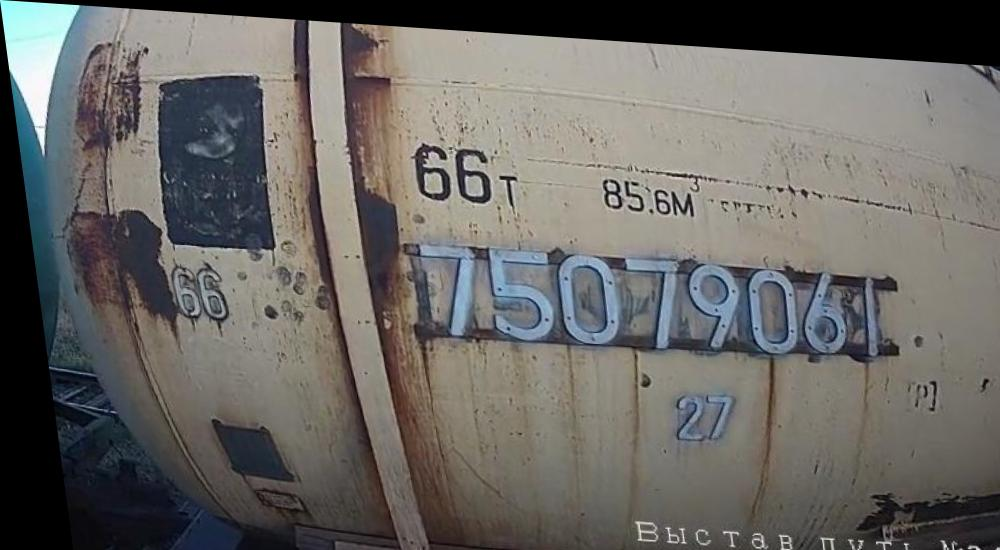Wagon-number: (403, 229, 885, 357)
